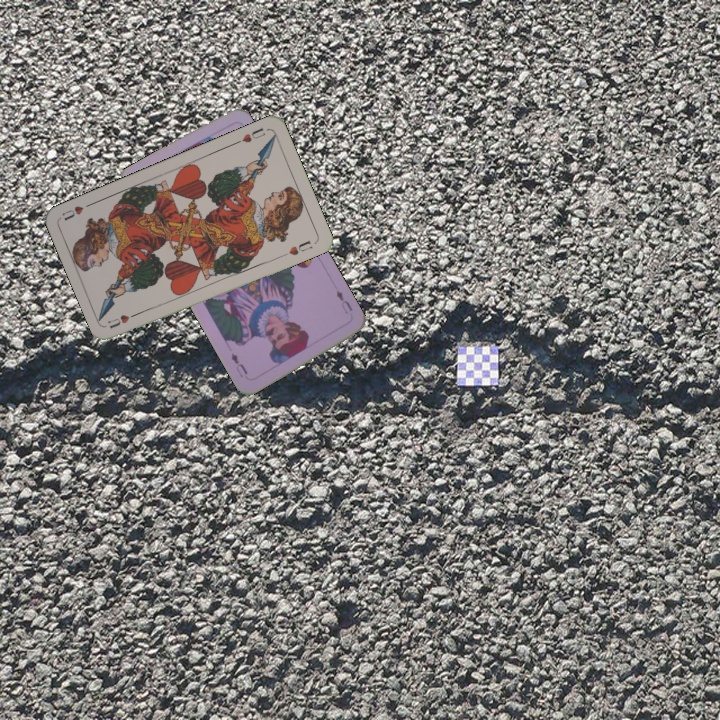EU: (332, 286, 355, 316)
HU: (104, 308, 143, 331), (232, 123, 268, 147)
